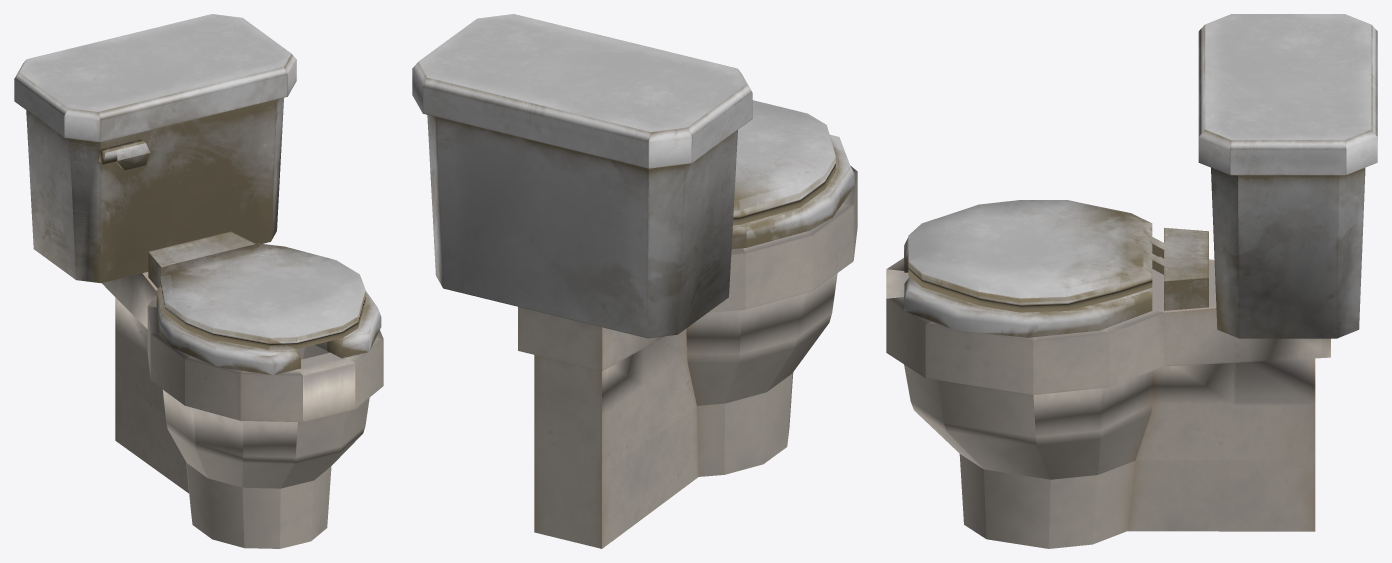
The model's file is Toilet.fbx.
3 views of the same model, side by side, from view 1: azimuth 30°, elevation 25°; view 2: azimuth 150°, elevation 25°; view 3: azimuth 270°, elevation 25° (orthographic). The views are drawn at different scales.
Visible parts, largest first — view 1: pot, water_holder, top1, top, seat, flush; view 2: pot, water_holder, top1, top, seat; view 3: pot, top1, water_holder, top, seat.
Boxes of the visible parts, x1,y1,x2,y2 form: pot: (102, 272, 383, 548); water_holder: (26, 98, 283, 283); top1: (14, 14, 296, 142); top: (160, 243, 365, 349); seat: (148, 231, 381, 375); flush: (98, 139, 150, 170); pot: (518, 166, 857, 548); water_holder: (427, 115, 737, 338); top1: (412, 14, 752, 168); top: (733, 100, 835, 225); seat: (731, 135, 854, 248); pot: (886, 252, 1330, 548); top1: (1198, 14, 1377, 175); water_holder: (1211, 167, 1365, 338); top: (908, 200, 1152, 312); seat: (904, 227, 1208, 337).
Bounding box in the file's own units: 39.13 × 61.13 × 62.06.
1 material, 1 textured.
